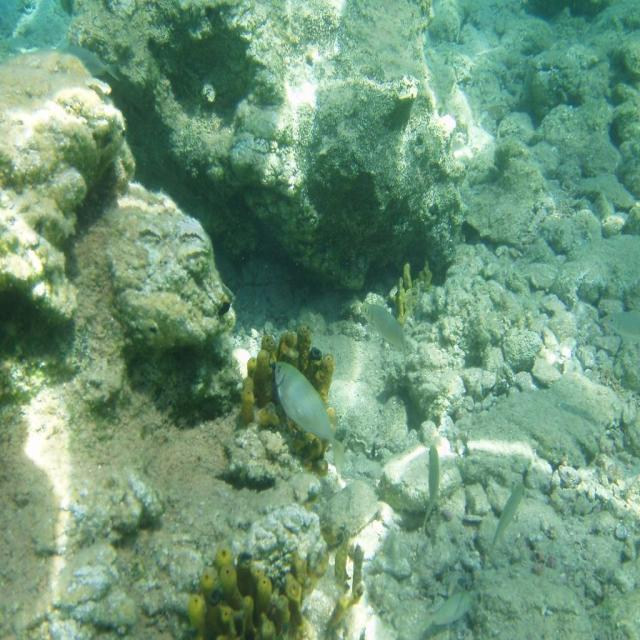Sokar Baligi: (269, 349, 357, 477)
